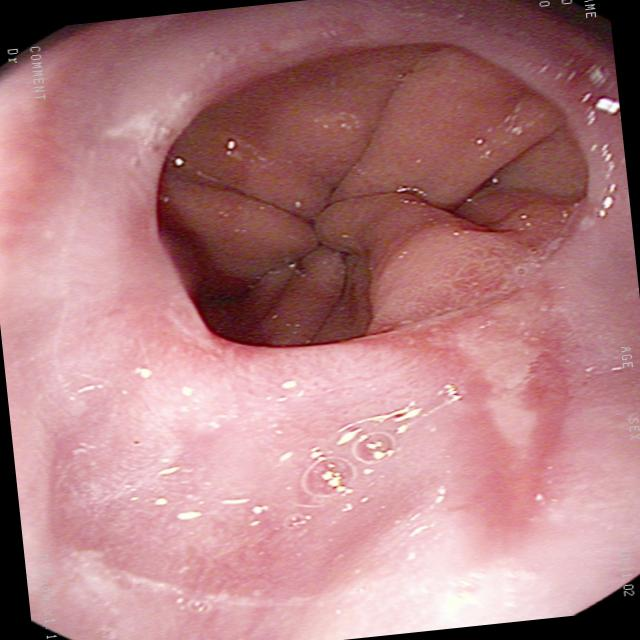esophagitis: (22, 0, 640, 591)
